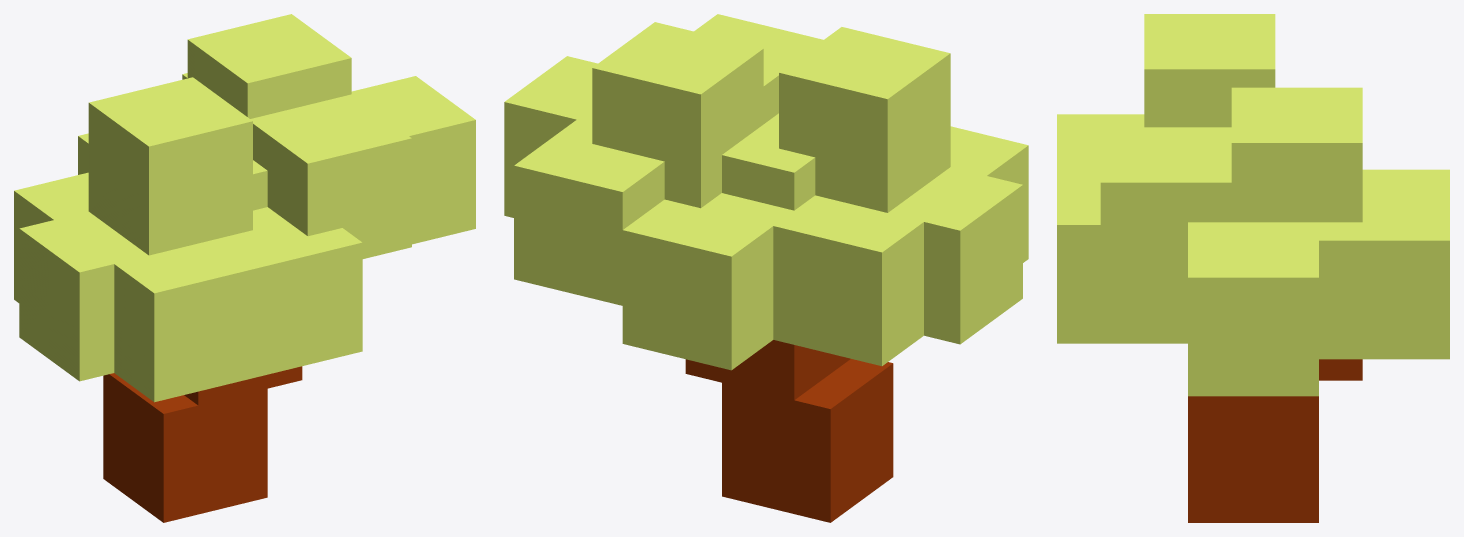
The model's file is Oak3Dehydrated.gltf.
3 renders of one model, left to right at view 1: azimuth 30°, elevation 25°; view 2: azimuth 150°, elevation 25°; view 3: azimuth 270°, elevation 25°, orthographic. The views are drawn at different scales.
Parts seen in each view (by area): view 1: cube (×11); view 2: cube (×12); view 3: cube (×11).
Boxes of the visible parts, box(x1,y1,x2,y2) form: cube (×11): box(14, 14, 475, 522); cube (×12): box(504, 14, 1028, 522); cube (×11): box(1057, 14, 1449, 522).
Bounding box in the file's own units: 0.75 × 0.6875 × 0.5625.
Materials: 2 (2 with a texture image).
